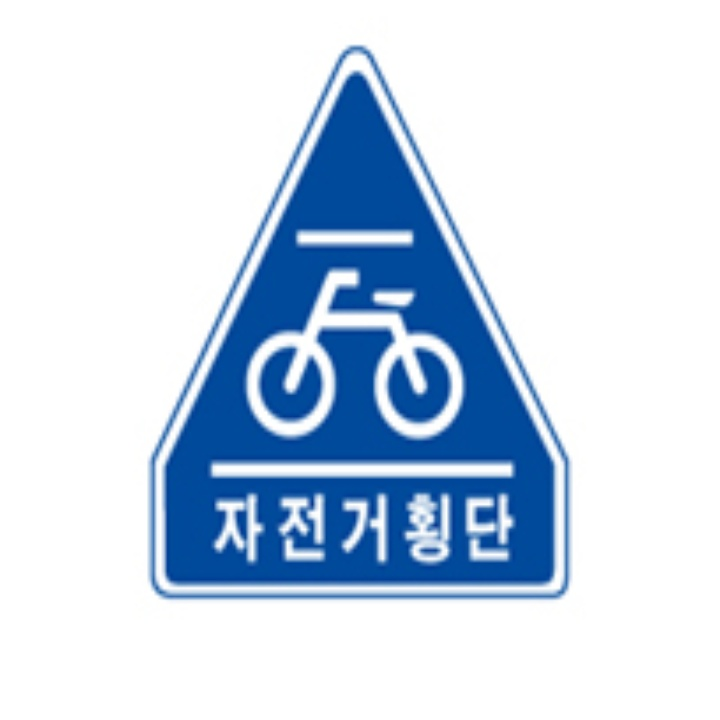bicycle: (245, 264, 467, 444)
